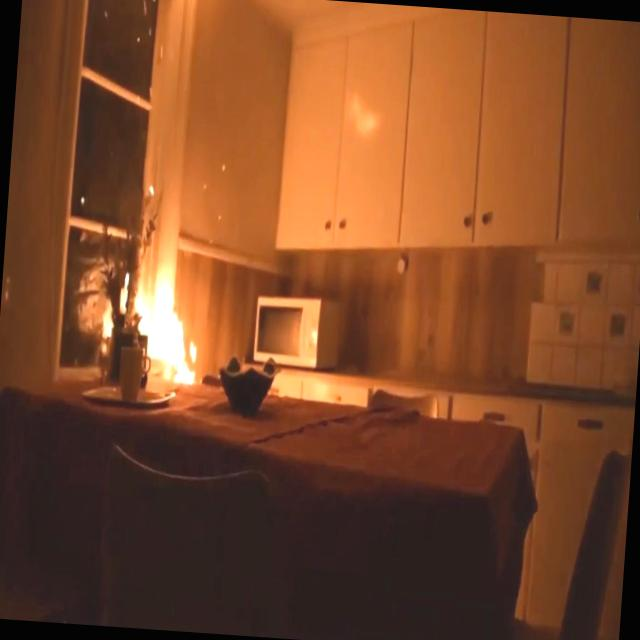fire: (83, 232, 215, 422)
